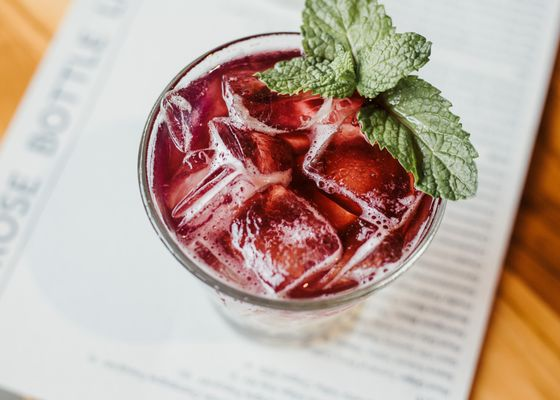curry: (260, 1, 432, 101)
sandwich: (0, 2, 139, 311)
sushi: (139, 18, 453, 339)
